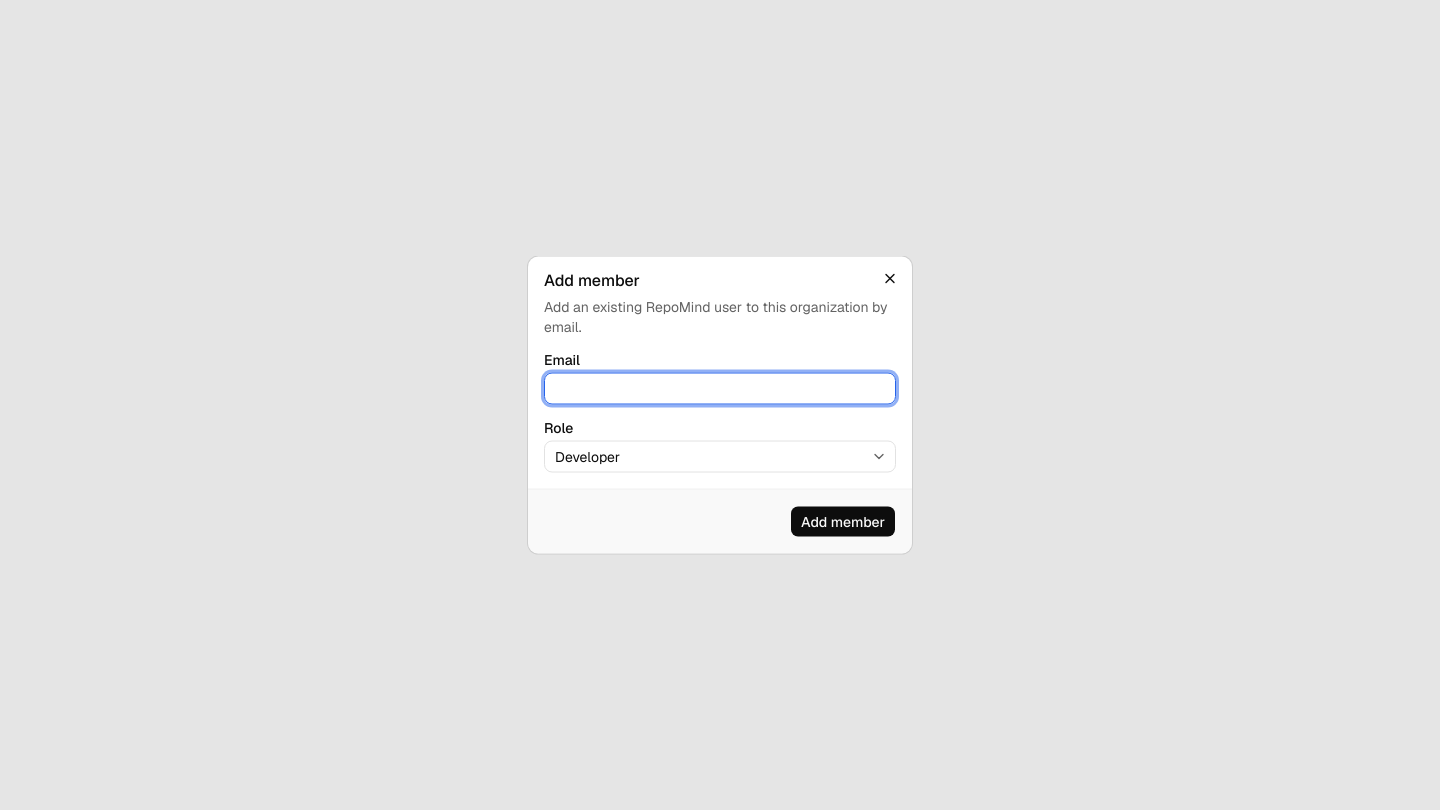
Scenario: AddMemberDialog › shows a specific message when the invited email has no account yet
The image size is (1440, 810).
Step 1. Type "ghost@example.com" into the field labelled "Email" → (720, 388), box top-left (544, 372), bottom-right (896, 404)
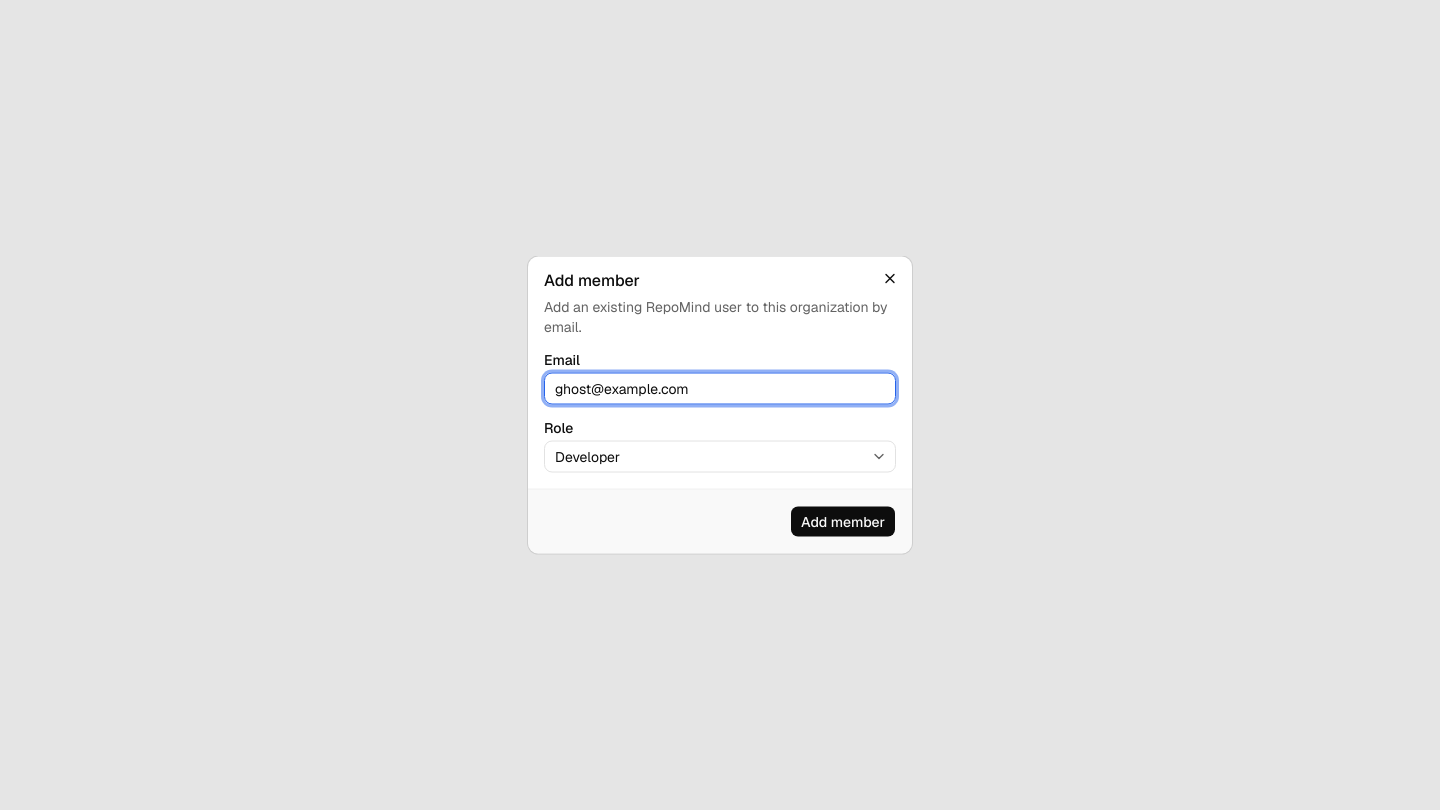
Step 2. Click the button "Add member" → (843, 522), box top-left (790, 506), bottom-right (896, 538)
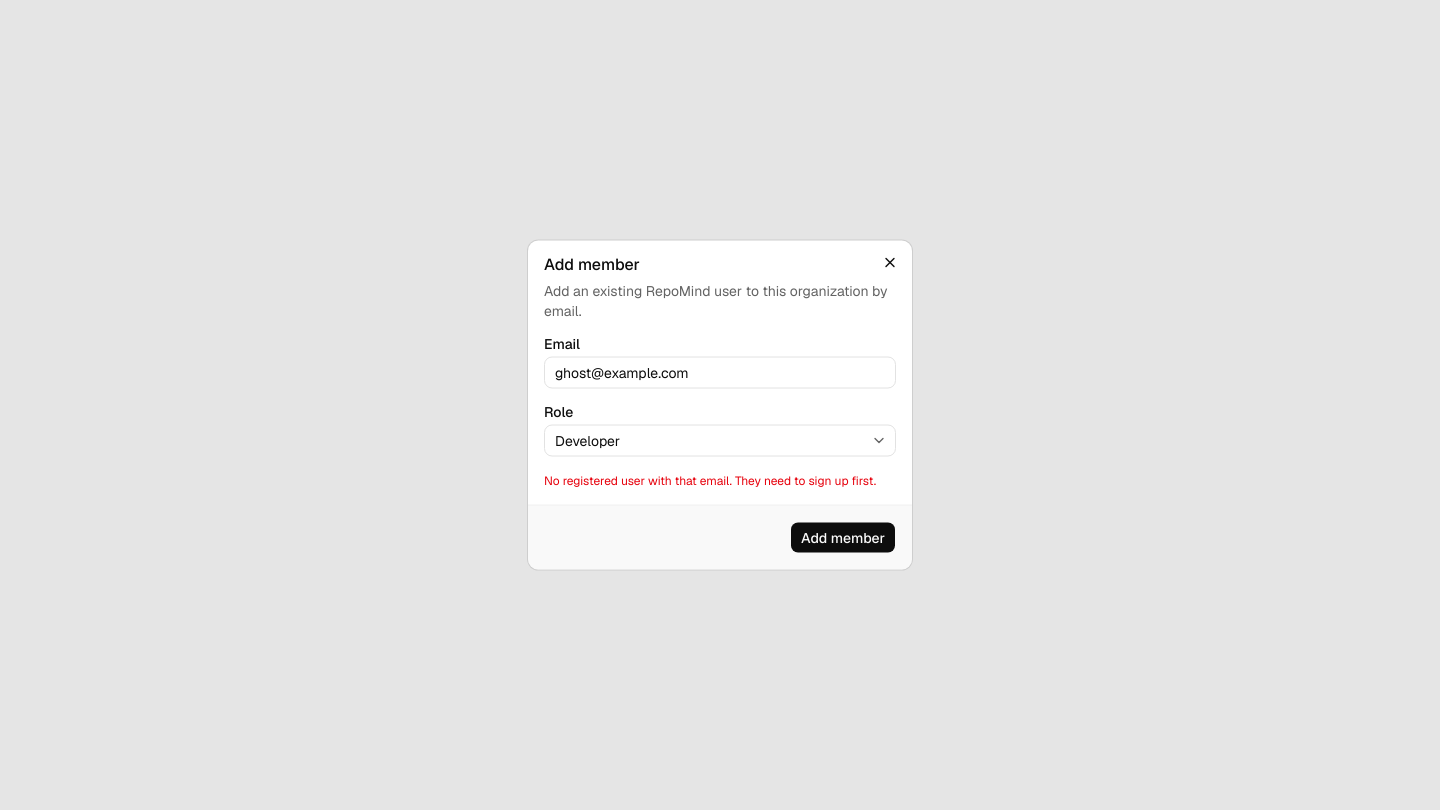
Expected: the text "No registered user with that email. They need to sign up first." is shown, top-left (544, 472), bottom-right (896, 488)
